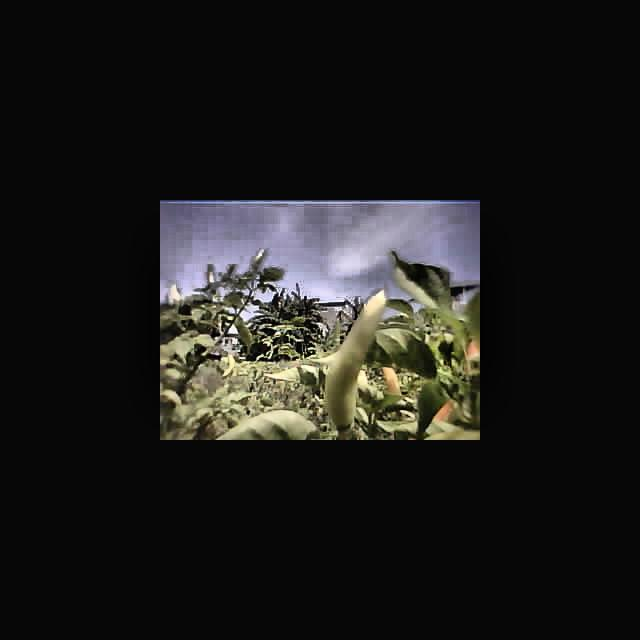Cabai: (382, 359, 411, 400)
